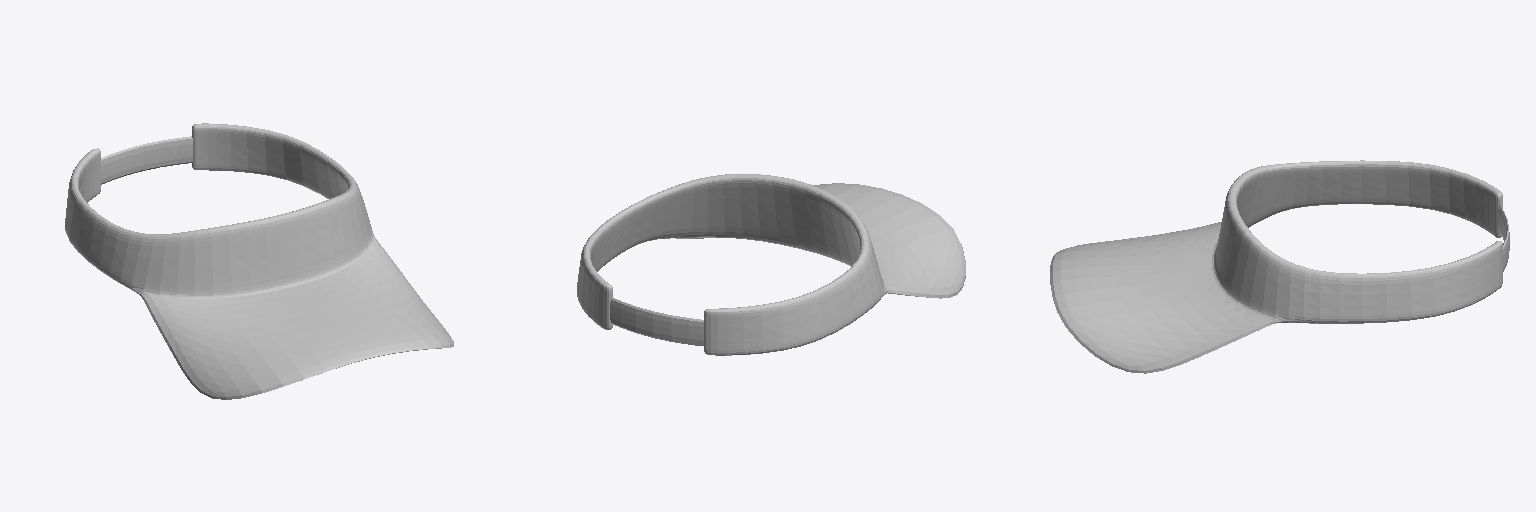
The model's file is Hat1.obj.
3 views of the same model, side by side, from view 1: azimuth 30°, elevation 25°; view 2: azimuth 150°, elevation 25°; view 3: azimuth 270°, elevation 25° (orthographic).
Parts seen in each view (by area): view 1: Cube.004_Cube, Plane; view 2: Cube.004_Cube, Plane; view 3: Cube.004_Cube.
Boxes of the visible parts, box(x1,y1,x2,y2) form: Cube.004_Cube: box(65, 123, 453, 399); Plane: box(101, 136, 192, 184); Cube.004_Cube: box(577, 174, 965, 355); Plane: box(610, 298, 703, 345); Cube.004_Cube: box(1050, 160, 1502, 373).
Bounding box in the file's own units: 1.95 × 0.8545 × 3.05.